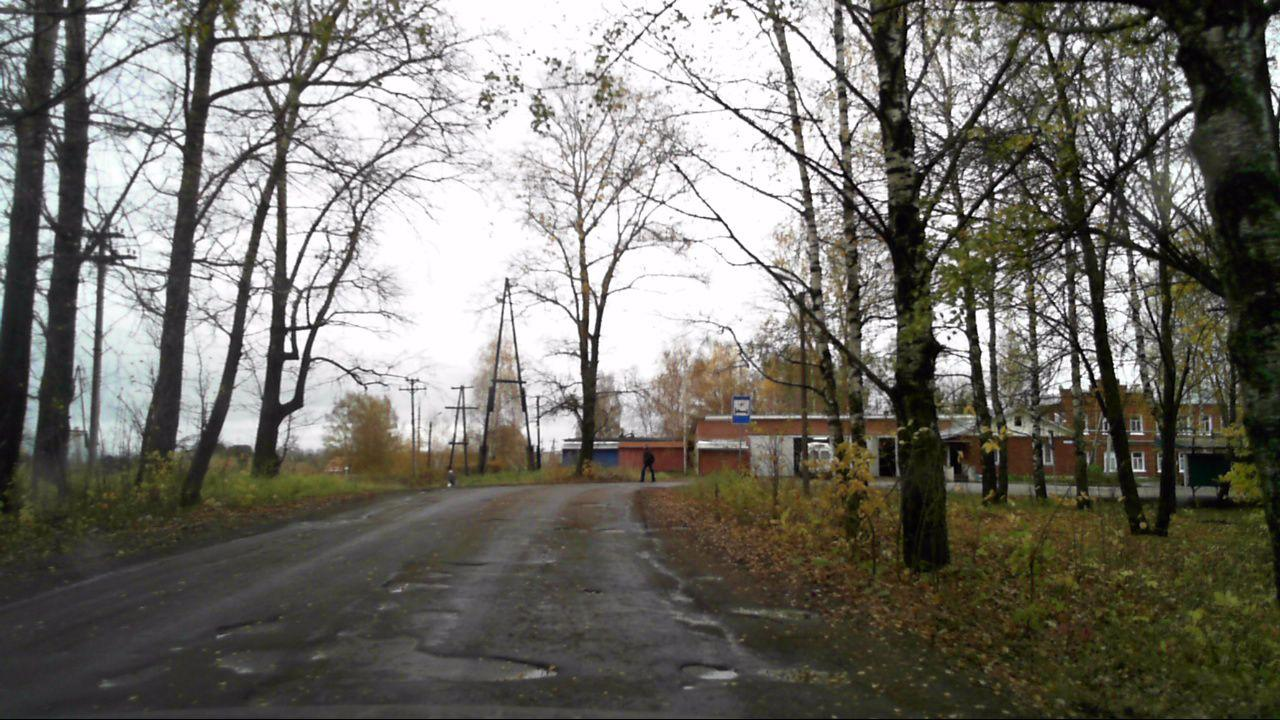7_2: (732, 395, 751, 424)
